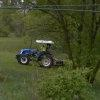Tractor: (12, 36, 68, 70)
